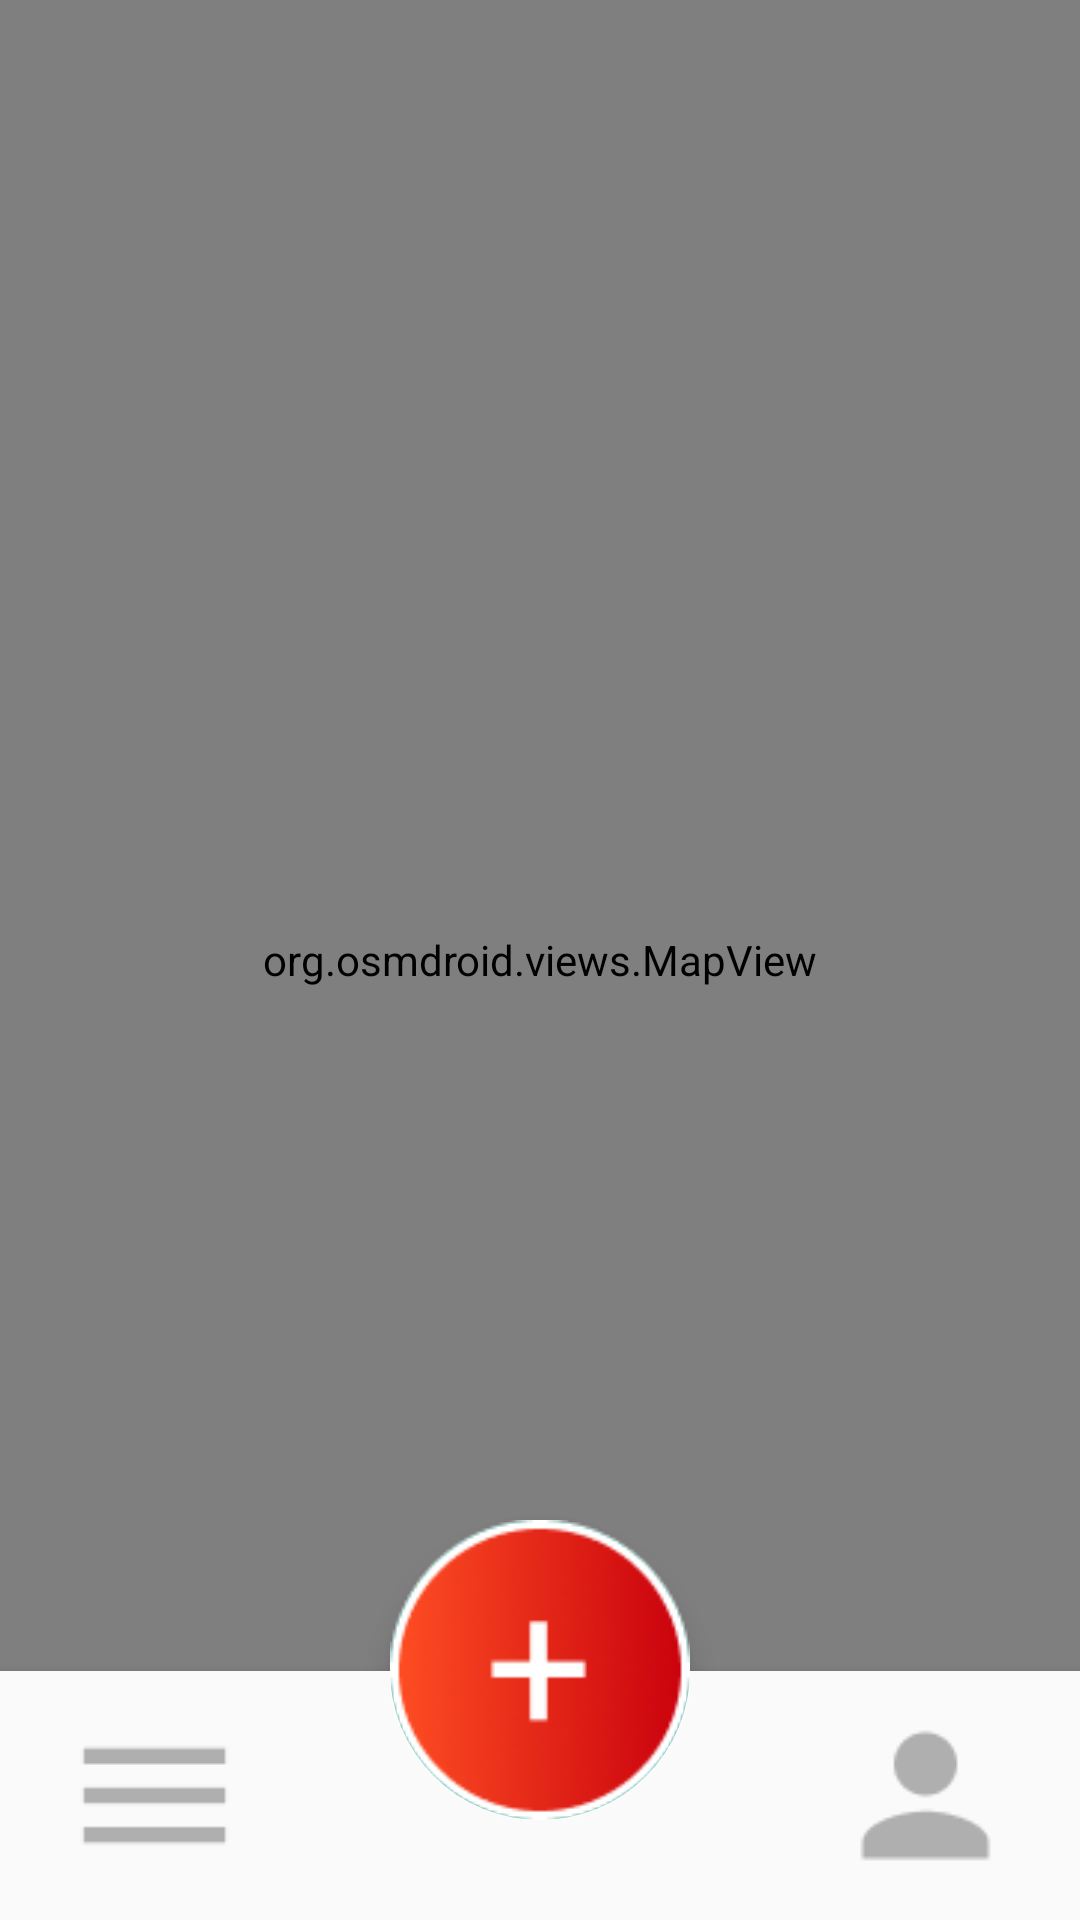

Icon click points for this 1080*1920 phone screenshot, format (x,y):
add: (540,1670)
profil: (925,1795)
